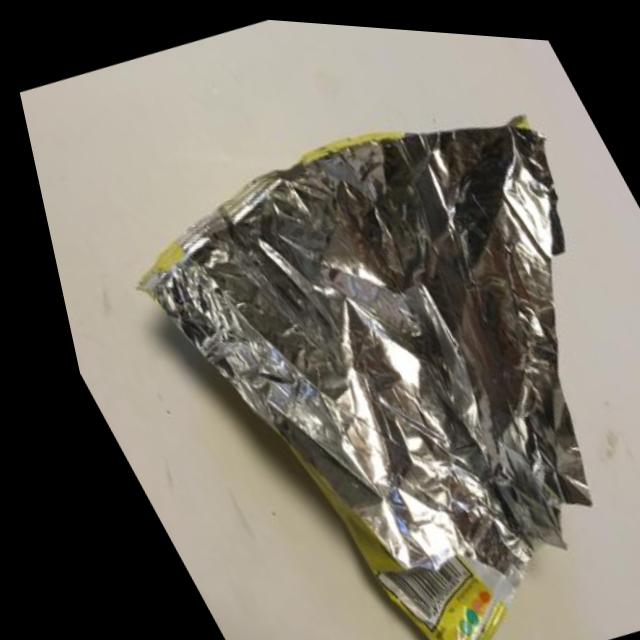trash: (27, 11, 640, 640)
